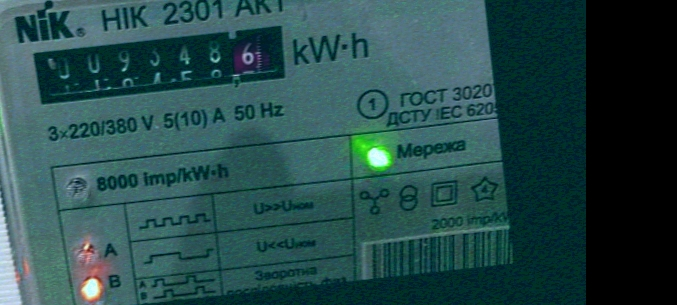0: (85, 50, 102, 75), (55, 54, 70, 81)
3: (145, 43, 162, 70)
4: (175, 39, 192, 68)
6: (237, 39, 257, 68)
8: (205, 37, 223, 67)
9: (114, 47, 132, 75)
screen: (23, 17, 297, 115)
